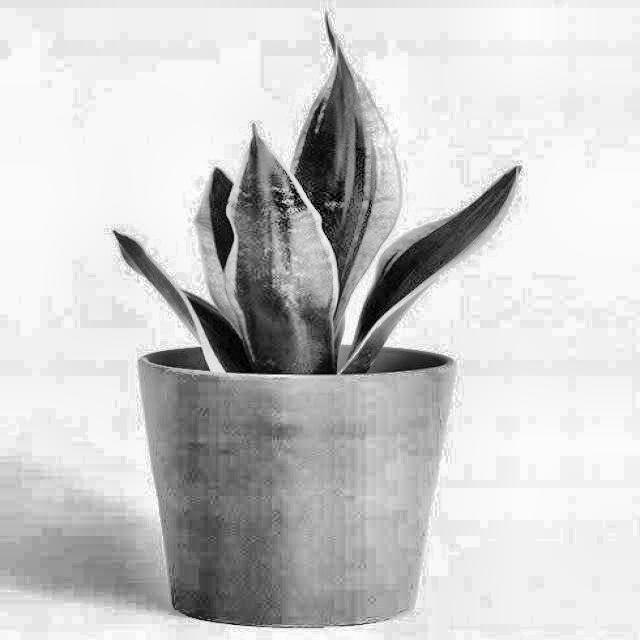plants: (63, 16, 530, 578)
